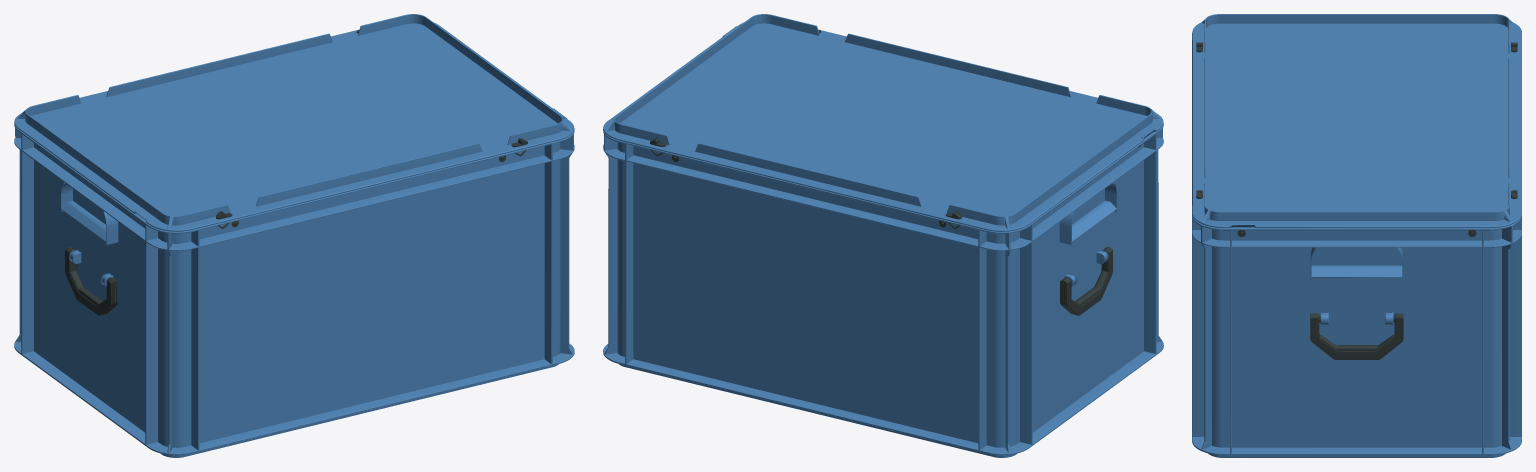
The model's file is box_blue_a01.glb.
3 views of the same model, side by side, from view 1: azimuth 30°, elevation 25°; view 2: azimuth 150°, elevation 25°; view 3: azimuth 270°, elevation 25° (orthographic).
Size of the model in its own units: 0.5999 by 0.33 by 0.3999.
